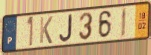1: (26, 15, 35, 49)
3: (77, 11, 94, 42)
6: (97, 10, 113, 40)
I: (120, 6, 128, 40)
J: (58, 13, 73, 43)
K: (38, 15, 54, 45)
